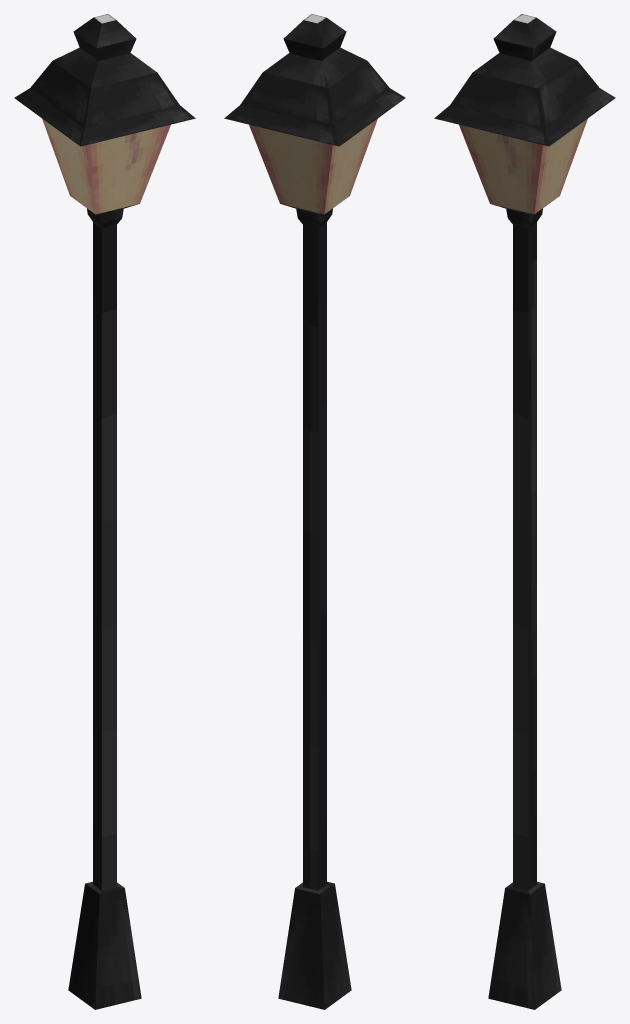
The model's file is street lamptxt.glb.
3 views of the same model, side by side, from view 1: azimuth 30°, elevation 25°; view 2: azimuth 150°, elevation 25°; view 3: azimuth 330°, elevation 25° (orthographic).
Visible parts, largest first — view 1: Cube; view 2: Cube; view 3: Cube.
Boxes of the visible parts, bbox=[...] form: Cube: bbox=[14, 14, 195, 1009]; Cube: bbox=[224, 14, 405, 1009]; Cube: bbox=[434, 14, 615, 1009].
Bounding box in the file's own units: 4.13 × 33.35 × 4.13.
Materials: 1 (1 with a texture image).
